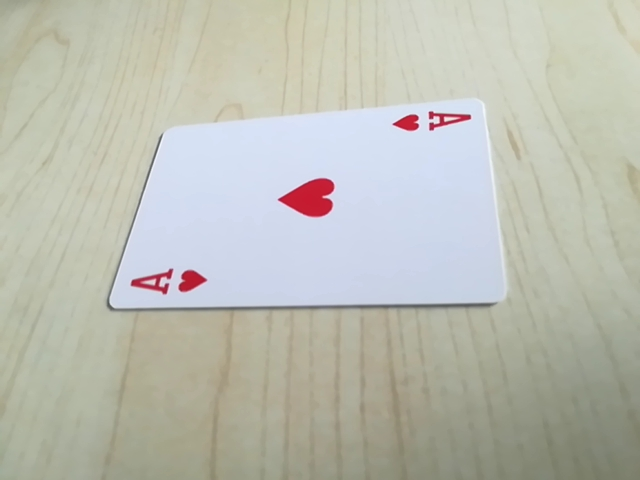hx a: (122, 260, 212, 301), (389, 105, 476, 141)
